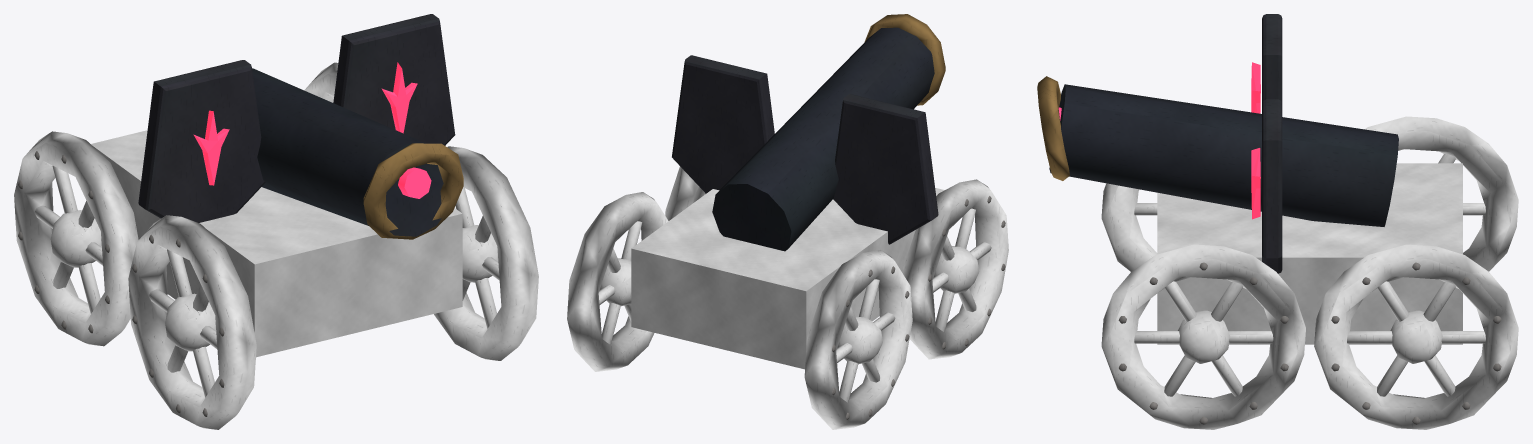
Rendered from red_cannon.gltf.
3 views of the same model, side by side, from view 1: azimuth 30°, elevation 25°; view 2: azimuth 150°, elevation 25°; view 3: azimuth 270°, elevation 25° (orthographic). The views are drawn at different scales.
Visible parts, largest first — view 1: red_cannon, red_cannon__Mesh_4, red_cannon__Mesh_2, red_cannon__Mesh_7, red_cannon__Mesh_5; view 2: red_cannon, red_cannon__Mesh_2, red_cannon__Mesh_4, red_cannon__Mesh_5, red_cannon__Mesh_7; view 3: red_cannon, red_cannon__Mesh_5, red_cannon__Mesh_7, red_cannon__Mesh_2, red_cannon__Mesh_4.
Part boxes in pixels (left/top/right/bottom): red_cannon: left=18, top=14, right=463, bottom=416; red_cannon__Mesh_4: left=128, top=215, right=256, bottom=429; red_cannon__Mesh_2: left=14, top=131, right=138, bottom=346; red_cannon__Mesh_7: left=434, top=146, right=538, bottom=360; red_cannon__Mesh_5: left=304, top=62, right=338, bottom=102; red_cannon: left=631, top=14, right=1005, bottom=419; red_cannon__Mesh_2: left=804, top=250, right=912, bottom=429; red_cannon__Mesh_4: left=902, top=179, right=1008, bottom=359; red_cannon__Mesh_5: left=567, top=192, right=668, bottom=371; red_cannon__Mesh_7: left=665, top=166, right=705, bottom=220; red_cannon: left=1037, top=14, right=1501, bottom=424; red_cannon__Mesh_5: left=1314, top=244, right=1518, bottom=429; red_cannon__Mesh_7: left=1101, top=244, right=1305, bottom=429; red_cannon__Mesh_2: left=1365, top=116, right=1518, bottom=271; red_cannon__Mesh_4: left=1101, top=183, right=1157, bottom=271.
Size of the model in its own units: 1.34 by 1.2 by 1.81.
Materials: 4 (2 with a texture image).
